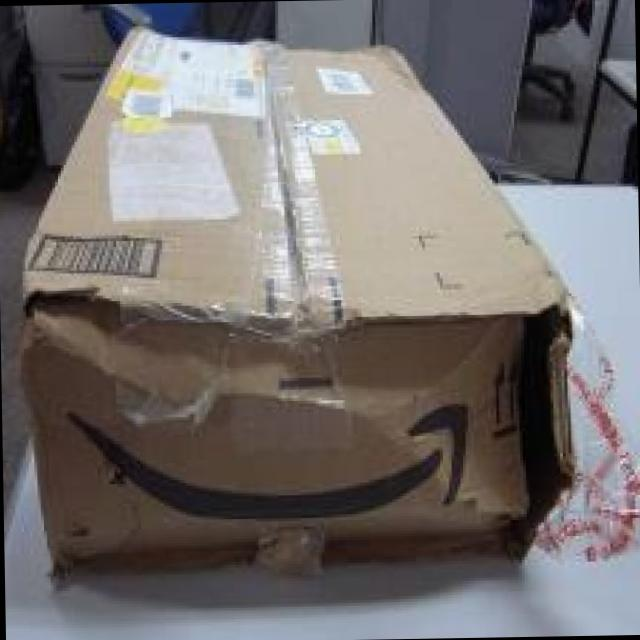box: (22, 26, 582, 583)
crushed: (31, 279, 464, 469)
tear: (497, 290, 581, 572)
